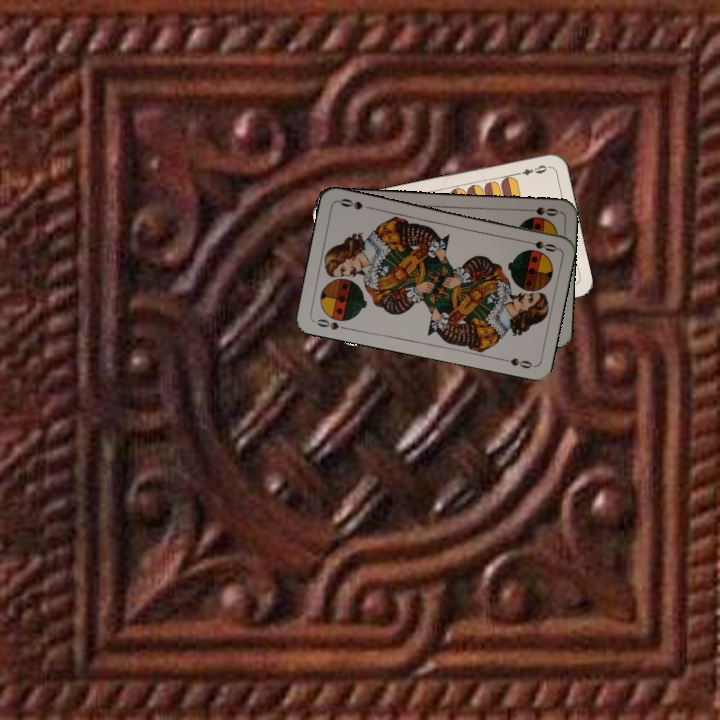E9: (511, 161, 549, 178)
SO: (519, 236, 559, 254), (310, 315, 351, 332), (521, 203, 560, 219)
